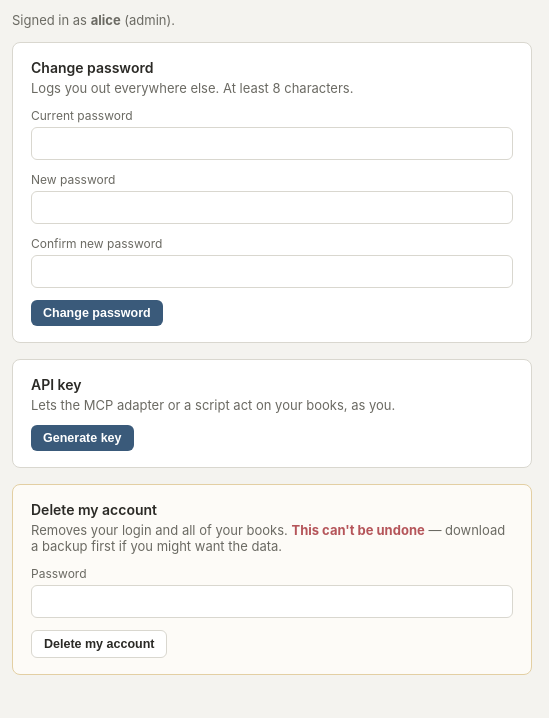
Test: submits the current and new password
The width and height of the screenshot is (549, 718).
Step 1. Type "password1" into the password field labelled "Current password" → (272, 144), box [31, 127, 513, 160]
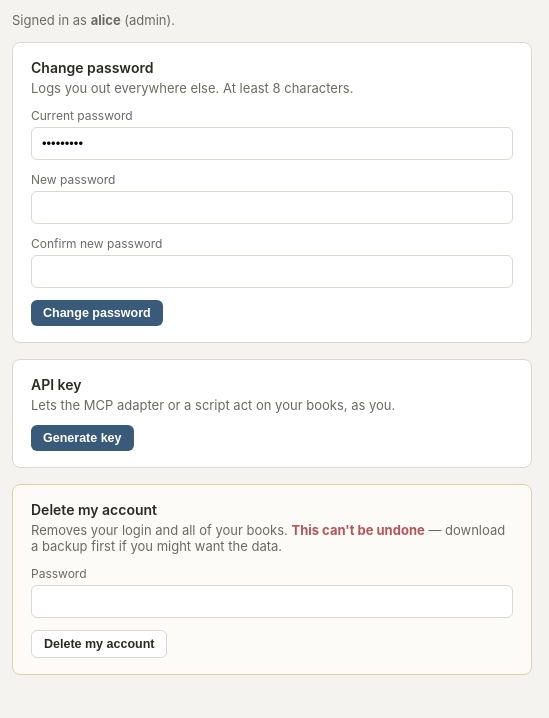
Step 2. Type "password2" into the password field labelled "New password" → (272, 208), box [31, 191, 513, 224]
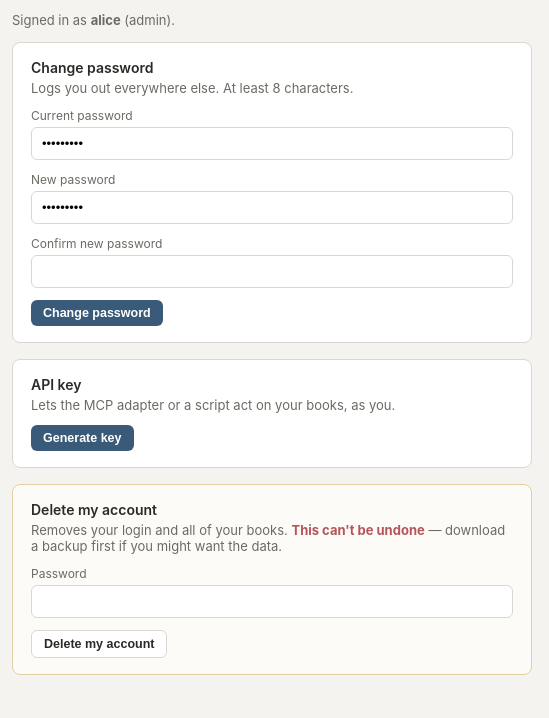
Step 3. Type "password2" into the password field labelled "Confirm new password" → (272, 272), box [31, 255, 513, 288]
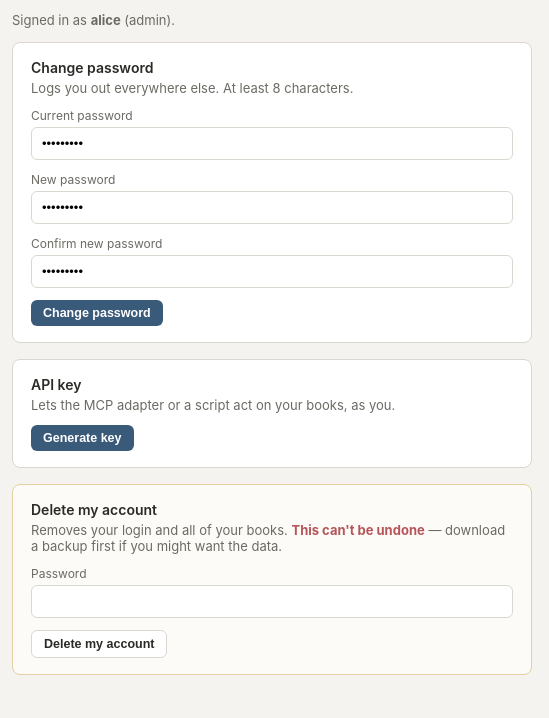
Step 4. Click the button "Change password" → (97, 313), box [31, 300, 163, 326]
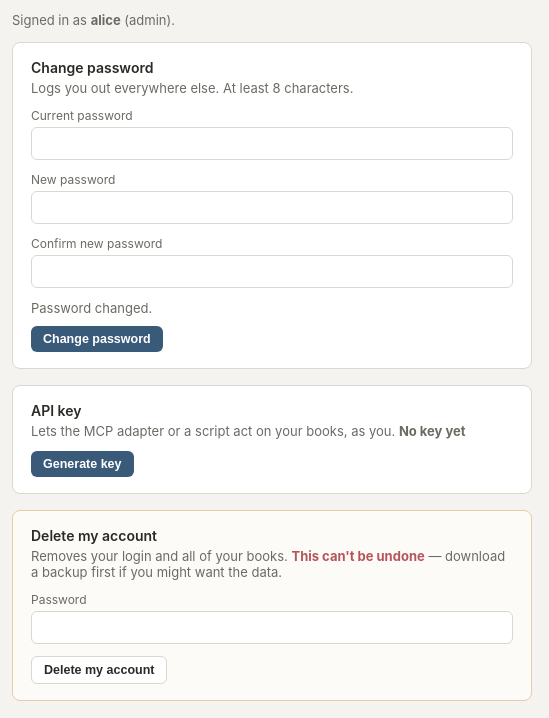
Expected: the text "Password changed." is shown, [31, 300, 152, 316]
Expected: the password field labelled "Current password" is empty, [31, 127, 513, 160]
